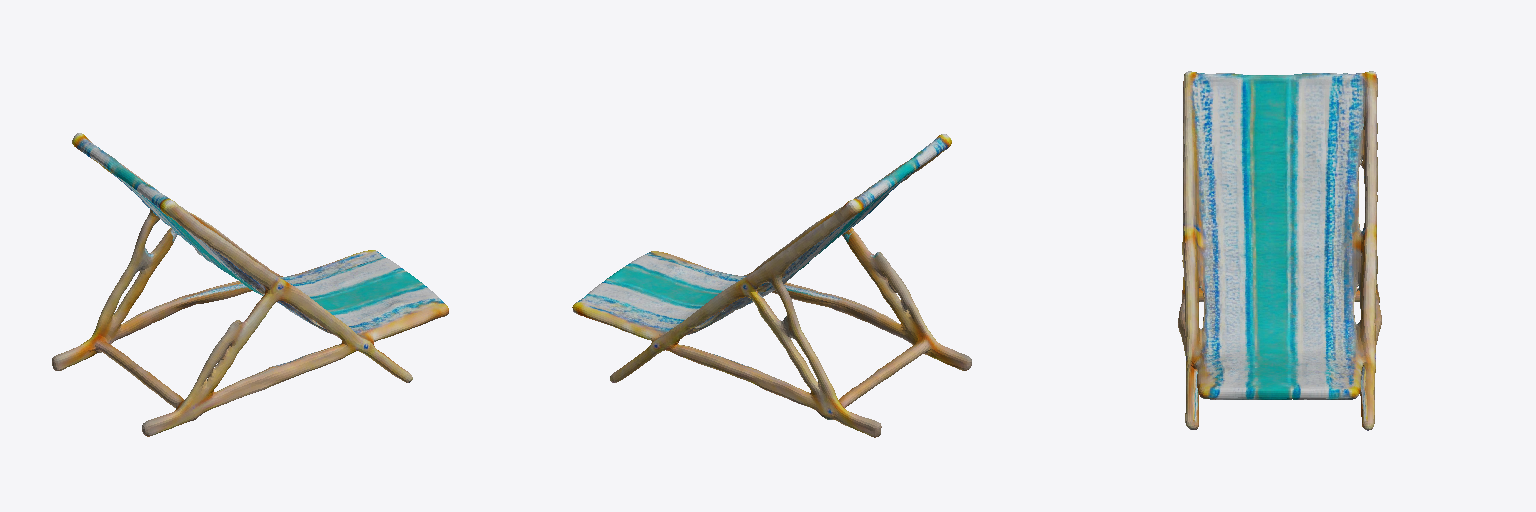
3 renders of one model, left to right at view 1: azimuth 30°, elevation 25°; view 2: azimuth 150°, elevation 25°; view 3: azimuth 270°, elevation 25°, orthographic.
Parts seen in each view (by area): view 1: mesh; view 2: mesh; view 3: mesh.
Boxes of the visible parts, box(x1,y1,x2,y2) form: mesh: box(52, 133, 448, 436); mesh: box(572, 134, 971, 437); mesh: box(1178, 71, 1381, 430).
Bounding box in the file's own units: 0.9984 × 0.7263 × 0.5551.
1 materials, 1 textured.